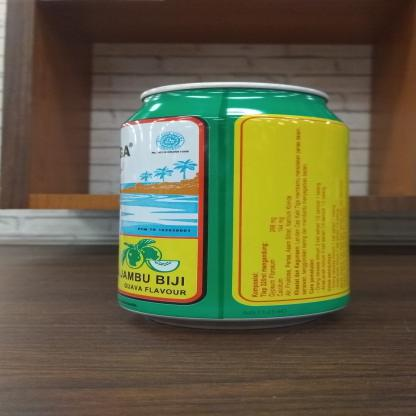can: (108, 75, 362, 336)
